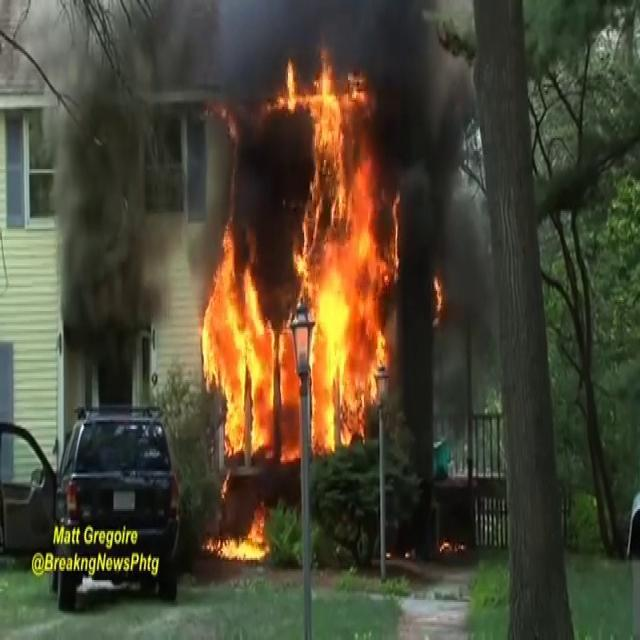Fire: (199, 48, 401, 463), (212, 501, 272, 570)
Smoke: (368, 2, 507, 504), (44, 0, 202, 407), (206, 0, 485, 187)
